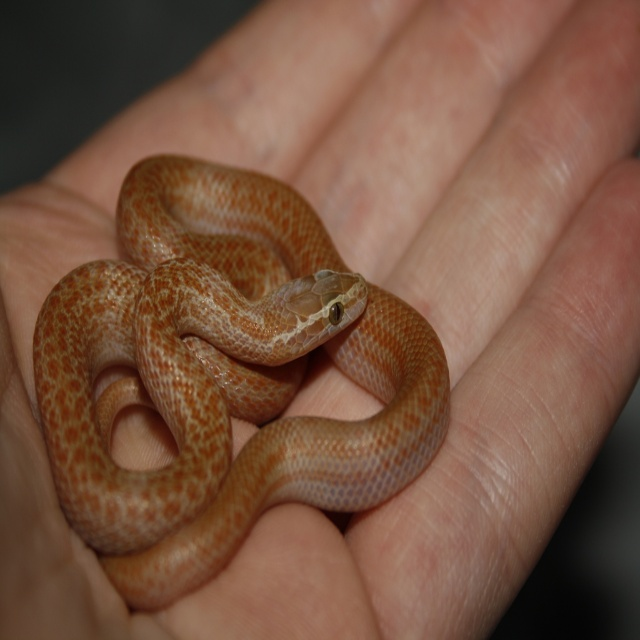Snake: (28, 148, 452, 616)
